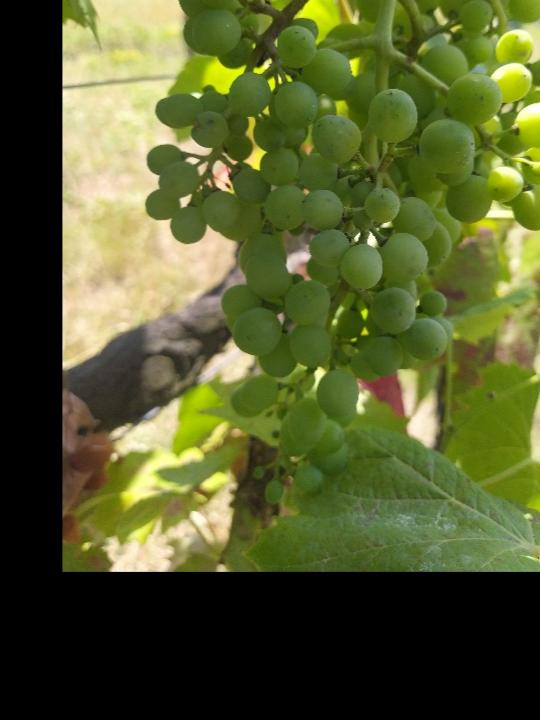grape: (143, 0, 540, 513)
